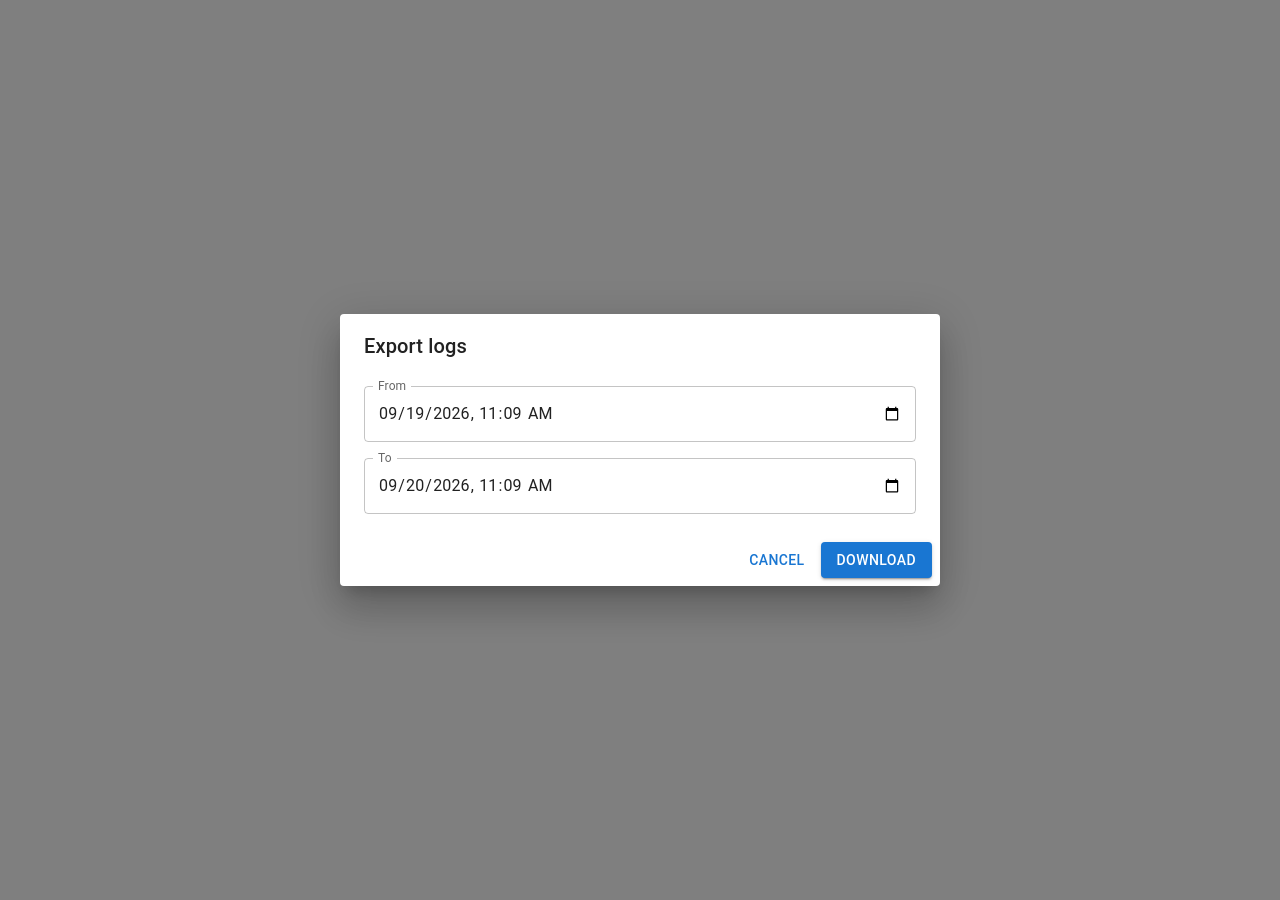
Test: LogExportDialog › shows the error hint and stays open on a failed export
Click the button "Download" at [876, 560], box top-left (821, 542), bottom-right (932, 578)
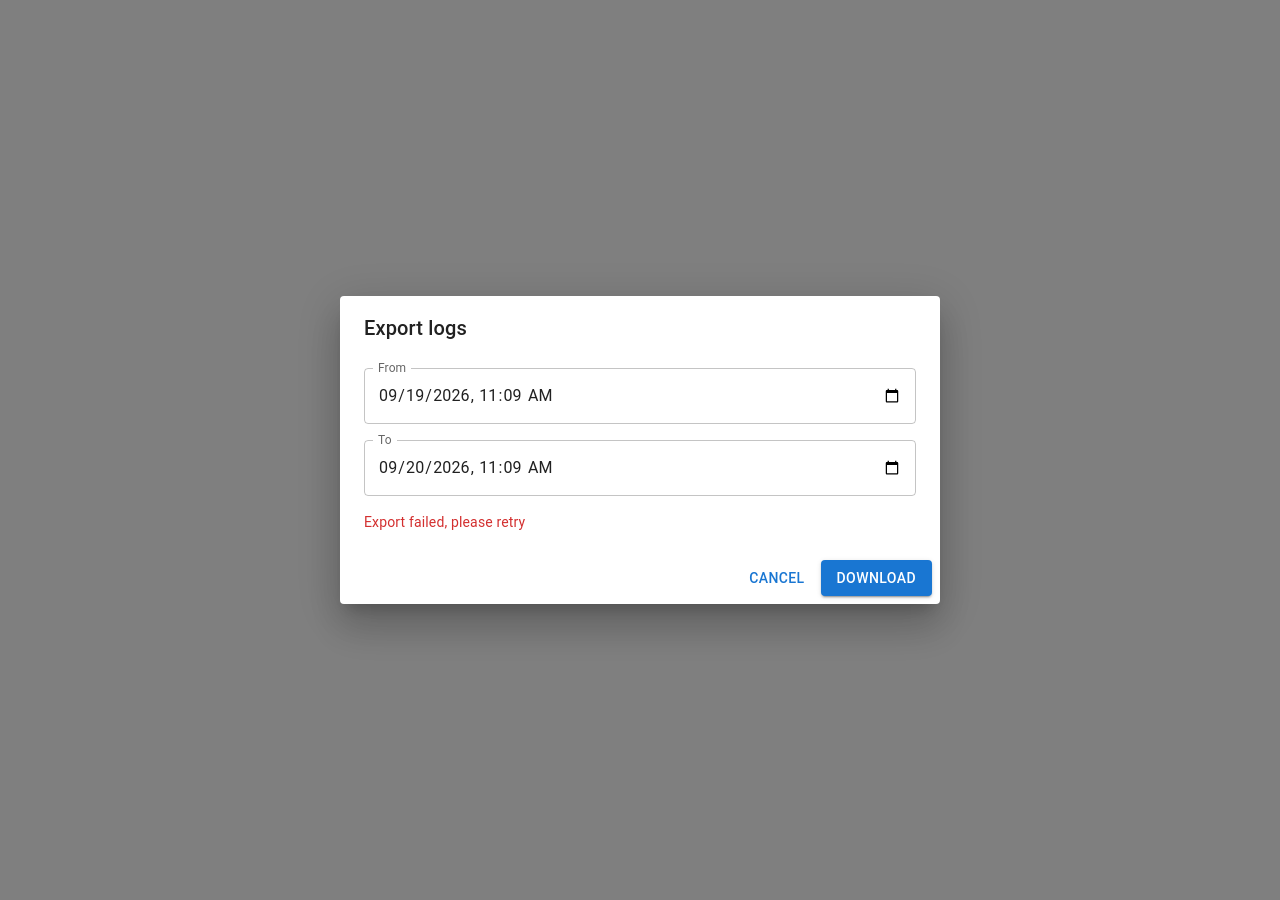
Check: the text "Export failed, please retry" is shown, box top-left (364, 514), bottom-right (525, 530)
